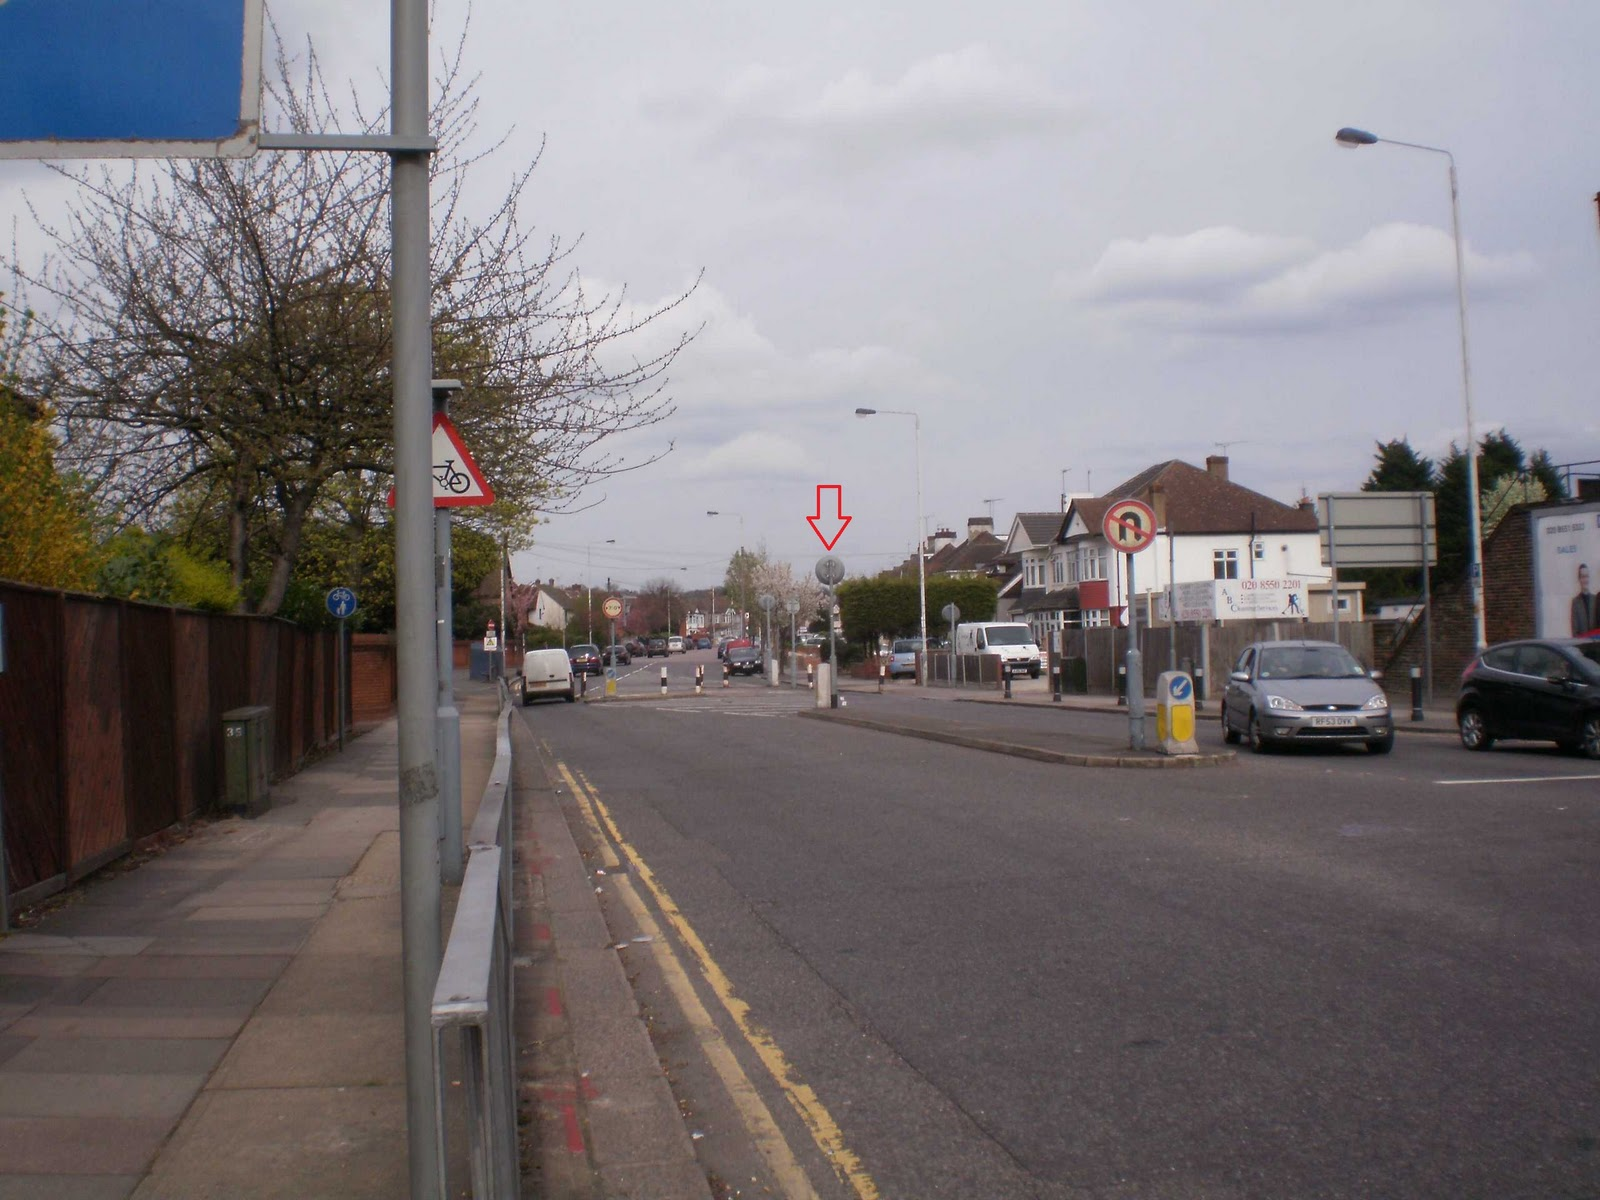No_u_turn: (1102, 499, 1157, 553)
